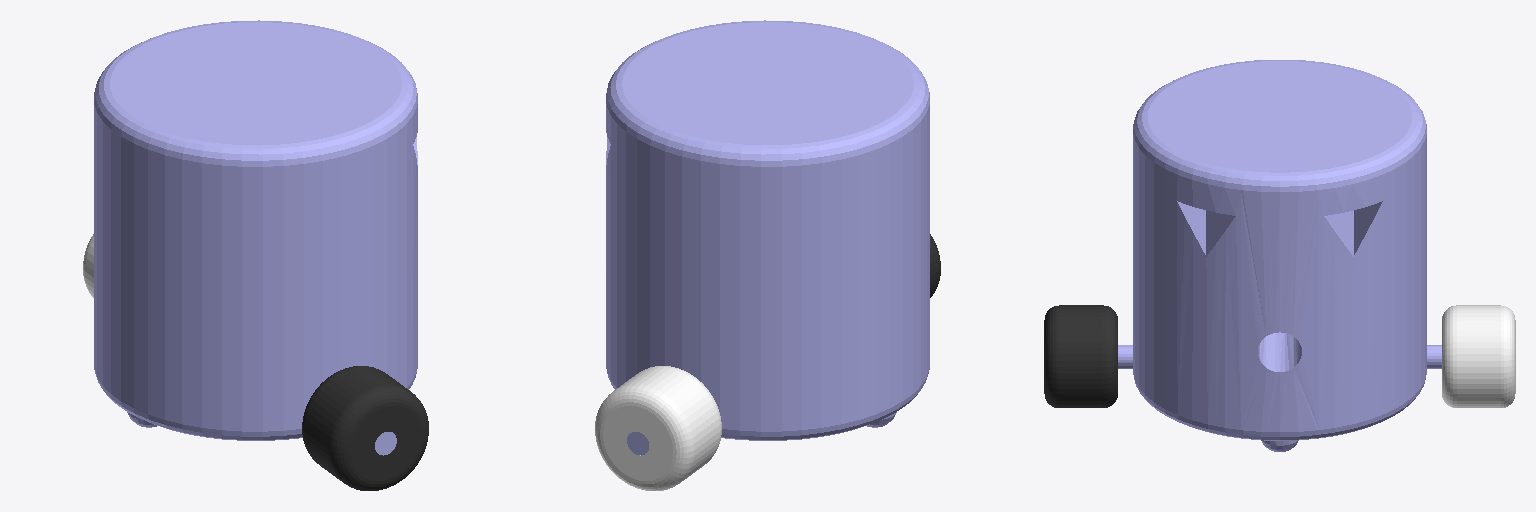
The robot description file, URDF, robot "bottleBot_description":
<?xml version="1.0" encoding="utf-8"?>
<!-- This URDF was automatically created by SolidWorks to URDF Exporter! Originally created by [author] ([email redacted]) 
     Commit Version: 1.6.0-1-g15f4949  Build Version: 1.6.7594.29634
     For more information, please see http://wiki.ros.org/sw_urdf_exporter -->
<robot
  name="bottleBot_description">
  <link
    name="base_link">
    <inertial>
      <origin
        xyz="-0.0139744593731478 0.0109514707558618 0.159290409867361"
        rpy="0 0 0" />
      <mass
        value="0.763096236233645" />
      <inertia
        ixx="0.00110852256384707"
        ixy="2.44534980372812E-11"
        ixz="-7.7332712921807E-11"
        iyy="0.000950092672162934"
        iyz="6.38622198180867E-06"
        izz="0.00111374448220001" />
    </inertial>
    <visual>
      <origin
        xyz="0 0 0"
        rpy="0 0 0" />
      <geometry>
        <mesh
          filename="package://bottleBot_description/meshes/base_link.STL" />
      </geometry>
      <material
        name="">
        <color
          rgba="0.752941176470588 0.752941176470588 1 1" />
      </material>
    </visual>
    <collision>
      <origin
        xyz="0 0 0"
        rpy="0 0 0" />
      <geometry>
        <mesh
          filename="package://bottleBot_description/meshes/base_link.STL" />
      </geometry>
    </collision>
  </link>
  <link
    name="right_link">
    <inertial>
      <origin
        xyz="-0.0125 3.4694E-18 0"
        rpy="0 0 0" />
      <mass
        value="0.021692" />
      <inertia
        ixx="3.3737E-06"
        ixy="-4.0849E-39"
        ixz="-1.2044E-38"
        iyy="2.7308E-06"
        iyz="7.6788E-41"
        izz="2.7308E-06" />
    </inertial>
    <visual>
      <origin
        xyz="0 0 0"
        rpy="0 0 0" />
      <geometry>
        <mesh
          filename="package://bottleBot_description/meshes/right_link.STL" />
      </geometry>
      <material
        name="">
        <color
          rgba="0.25098 0.25098 0.25098 1" />
      </material>
    </visual>
    <collision>
      <origin
        xyz="0 0 0"
        rpy="0 0 0" />
      <geometry>
        <mesh
          filename="package://bottleBot_description/meshes/right_link.STL" />
      </geometry>
    </collision>
  </link>
  <joint
    name="right_joint"
    type="continuous">
    <origin
      xyz="0 -0.055 0.01"
      rpy="1.5708 0 1.5708" />
    <parent
      link="base_link" />
    <child
      link="right_link" />
    <axis
      xyz="1 0 0" />
  </joint>
  <link
    name="left_link">
    <inertial>
      <origin
        xyz="-0.0125 3.4694E-18 0"
        rpy="0 0 0" />
      <mass
        value="0.021692" />
      <inertia
        ixx="3.3737E-06"
        ixy="-4.0849E-39"
        ixz="-1.2044E-38"
        iyy="2.7308E-06"
        iyz="7.6788E-41"
        izz="2.7308E-06" />
    </inertial>
    <visual>
      <origin
        xyz="0 0 0"
        rpy="0 0 0" />
      <geometry>
        <mesh
          filename="package://bottleBot_description/meshes/left_link.STL" />
      </geometry>
      <material
        name="">
        <color
          rgba="1 1 1 1" />
      </material>
    </visual>
    <collision>
      <origin
        xyz="0 0 0"
        rpy="0 0 0" />
      <geometry>
        <mesh
          filename="package://bottleBot_description/meshes/left_link.STL" />
      </geometry>
    </collision>
  </link>
  <joint
    name="left_joint"
    type="continuous">
    <origin
      xyz="0 0.055 0.01"
      rpy="1.5708 0 1.5708" />
    <parent
      link="base_link" />
    <child
      link="left_link" />
    <axis
      xyz="1 0 0" />
  </joint>
</robot>

--- What the picture shows (computed from the rendered views, not written in the file) ---
Views: 3 orthographic renders of the robot side by side, from view 1: azimuth 30°, elevation 25°; view 2: azimuth 150°, elevation 25°; view 3: azimuth 270°, elevation 25°.
Model bottleBot_description with 3 links and 2 joints (2 continuous), rooted at base_link, posed every joint at zero.
Visible links, largest first — view 1: base_link, right_link; view 2: base_link, left_link; view 3: base_link, right_link, left_link.
Link boxes in pixels (bbox=[...]): base_link: bbox=[94, 20, 417, 455]; right_link: bbox=[302, 366, 428, 490]; base_link: bbox=[606, 20, 929, 455]; left_link: bbox=[595, 366, 721, 490]; base_link: bbox=[1118, 60, 1441, 451]; right_link: bbox=[1044, 305, 1117, 407]; left_link: bbox=[1442, 305, 1515, 407].
Bounding box of the posed robot: 0.0999 × 0.16 × 0.1075 m (x, y, z).
3 mesh visuals loaded from 3 distinct referenced files (3 binary STL).